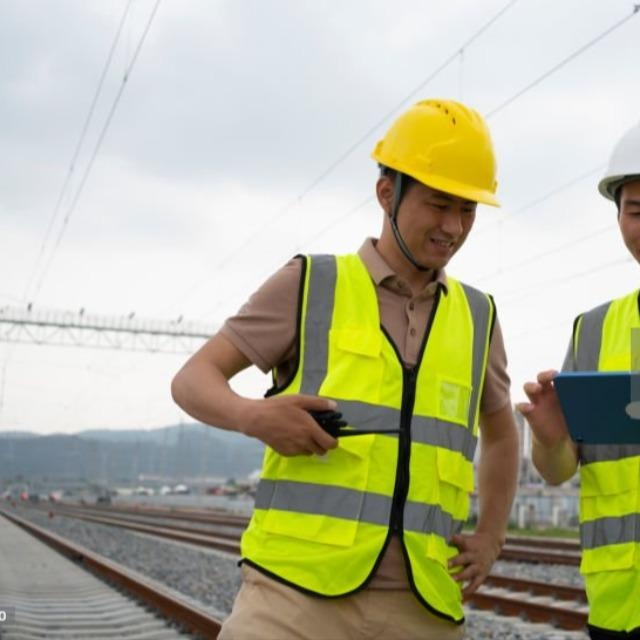Con_Casco: (373, 96, 502, 278)
Con_Chaleco: (261, 255, 503, 583)
